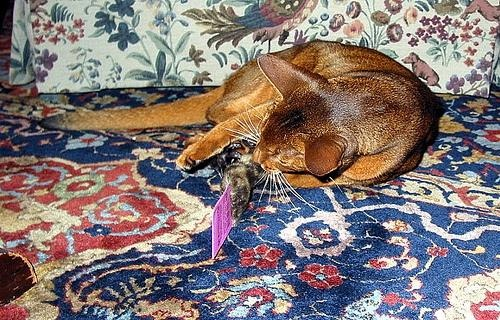cat: (38, 40, 443, 221)
